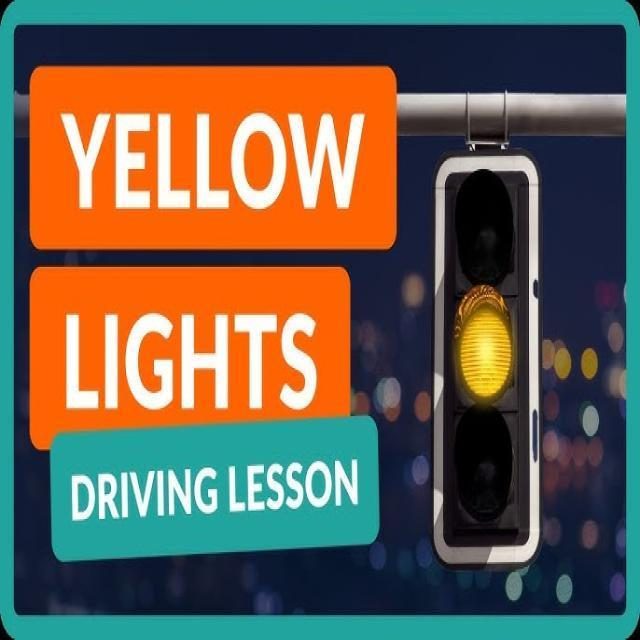yellow_light: (432, 152, 540, 566)
